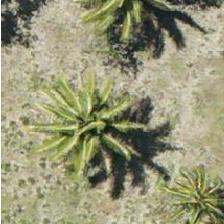Kelapa_Sawit: (45, 82, 135, 172), (161, 161, 224, 224)
